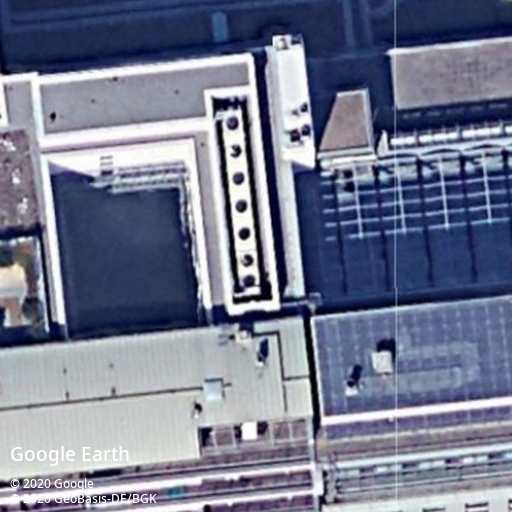Chiller: (221, 109, 264, 300)
